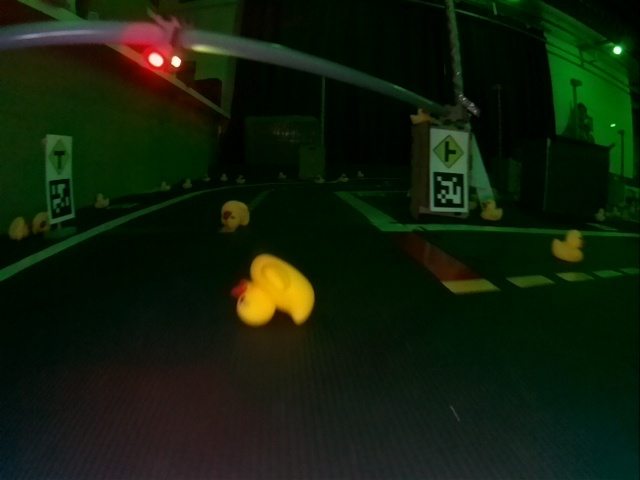Duckie: (232, 254, 310, 327), (550, 233, 584, 262), (221, 201, 250, 228), (482, 200, 502, 219), (411, 109, 432, 126), (92, 194, 111, 210), (32, 211, 45, 232), (9, 217, 23, 235), (160, 181, 169, 190), (237, 175, 246, 184), (314, 174, 323, 183), (182, 179, 191, 187), (202, 174, 211, 182), (278, 172, 286, 179)
Intersection sign: (432, 135, 463, 168), (48, 138, 70, 174)
QR code: (431, 174, 466, 208), (48, 183, 72, 219)
Traffic light: (145, 18, 182, 71)
